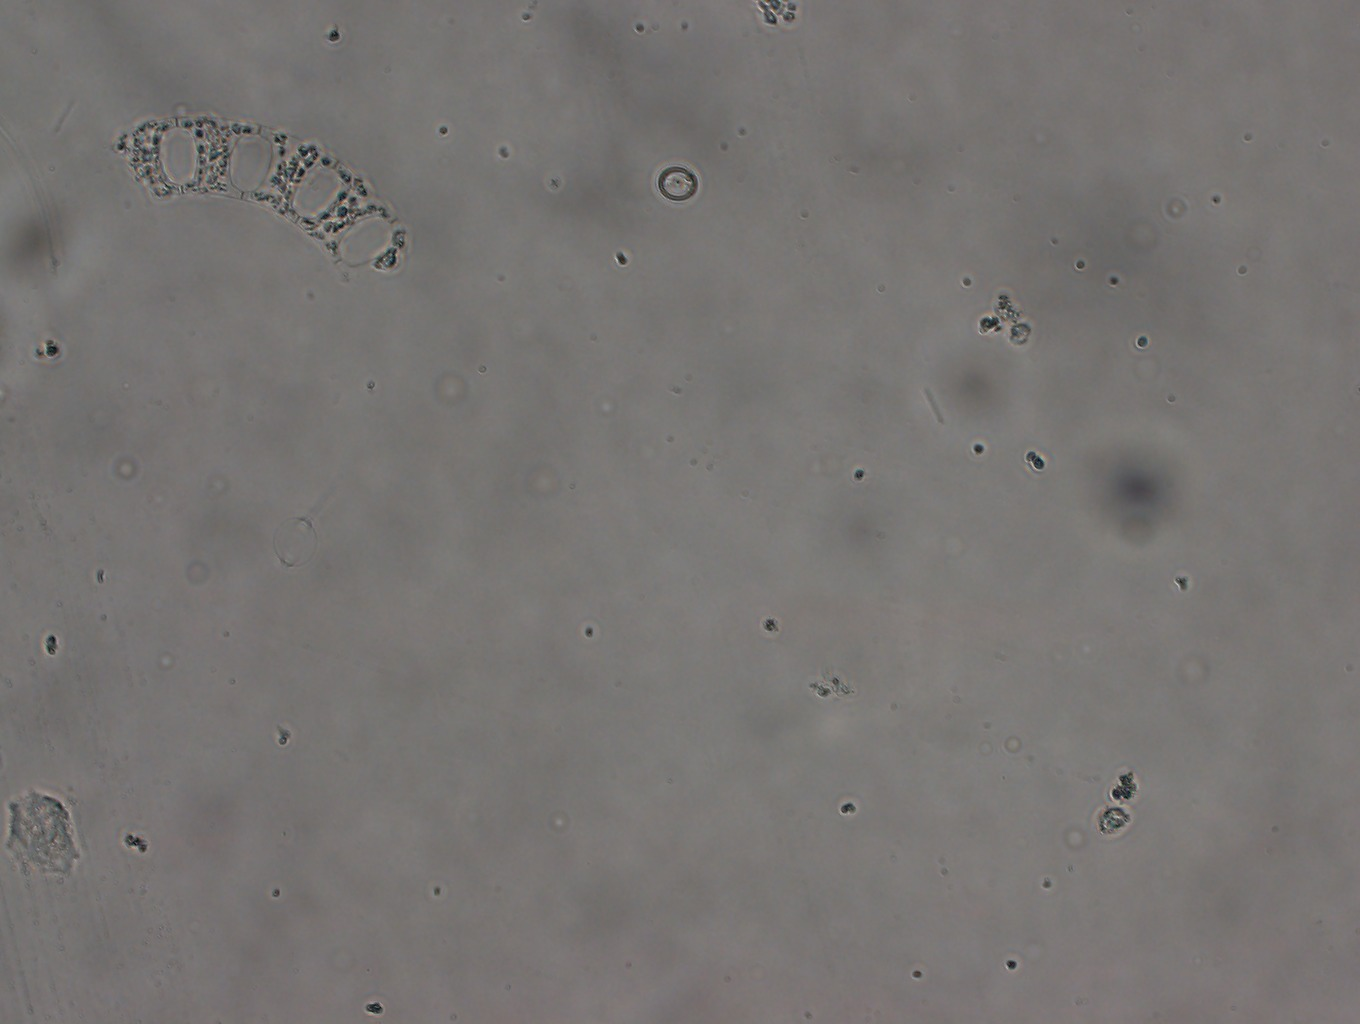eucampia: (108, 97, 432, 295)
